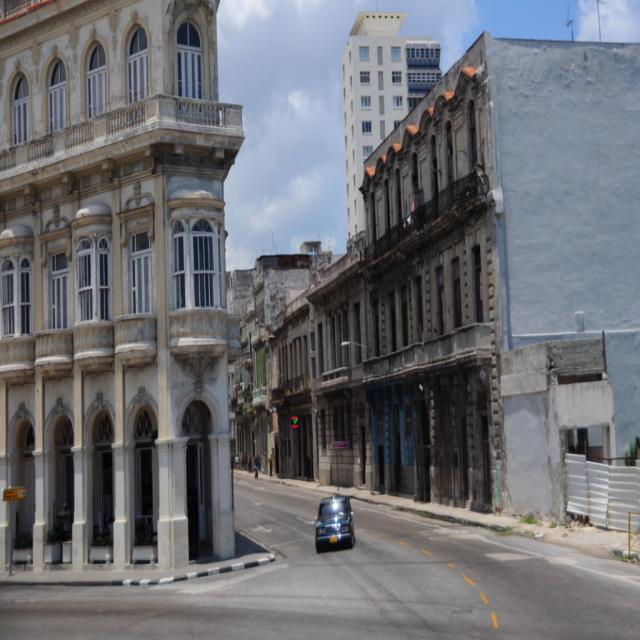car: (311, 492, 360, 556)
